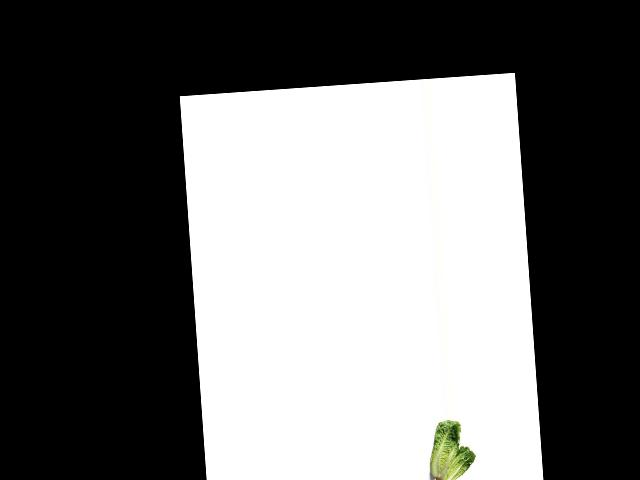lettuce: (432, 445, 478, 480)
